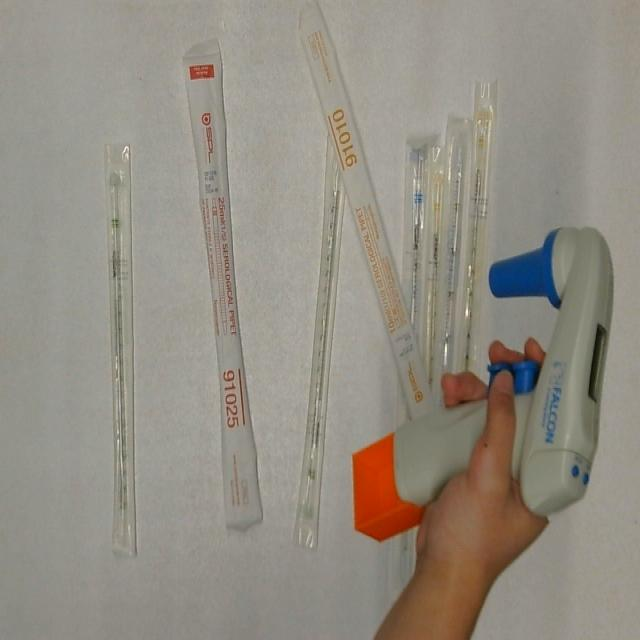Pipette Controller: (348, 226, 623, 544)
Serelogical Pipet 1 mL - Sealed: (448, 87, 492, 375), (417, 144, 454, 396)
Serelogical Pipet 10 mL - Sealed: (296, 0, 446, 422)
Serelogical Pipet 2 mL - Sealed: (289, 126, 355, 553), (104, 139, 140, 563)
Serelogical Pipet 25 mL - Sealed: (182, 35, 279, 534)
Serelogical Pipet 5 mL - Sealed: (387, 126, 437, 422), (422, 116, 472, 374)
